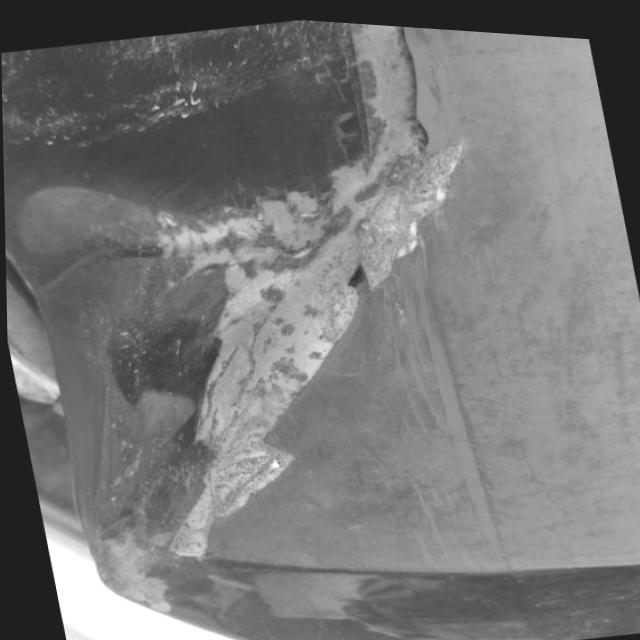Rust: (68, 23, 466, 615)
Scratch: (1, 19, 350, 148)
